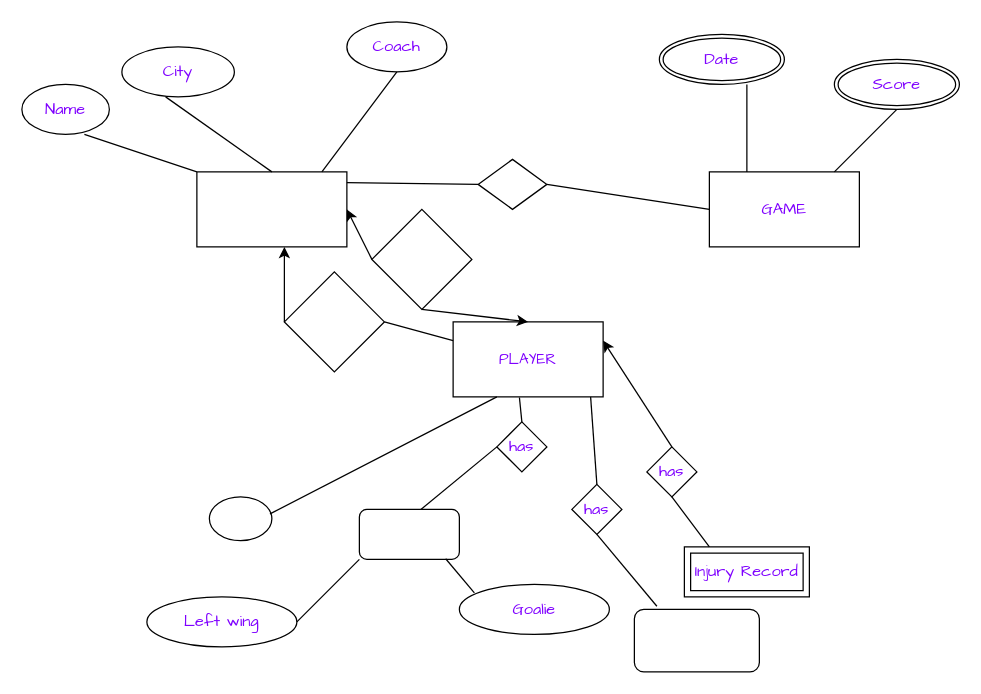
Some shapes in this 981 by 694 pixel diagram are drawn without their labels. The shapes that lost their labels are listed below. From the top down, each one's box as (x1, y1, x2, y2) in pixels, then its label:
(477, 158, 547, 209): Plays
(196, 171, 347, 247): TEAM
(371, 208, 472, 309): Captain
(283, 271, 384, 372): belongs to
(208, 496, 272, 541): P.Name
(358, 508, 459, 559): Position
(633, 608, 759, 672): Skill Level
